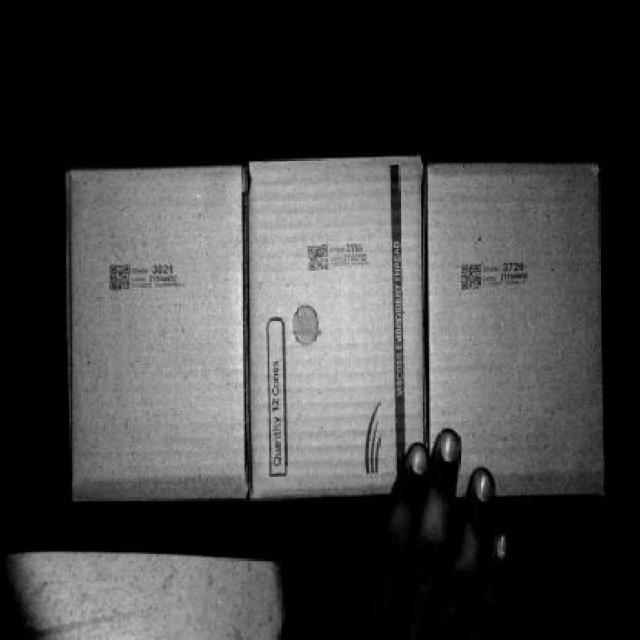cardboxes: (428, 162, 612, 498), (72, 174, 252, 495), (251, 166, 426, 491)
